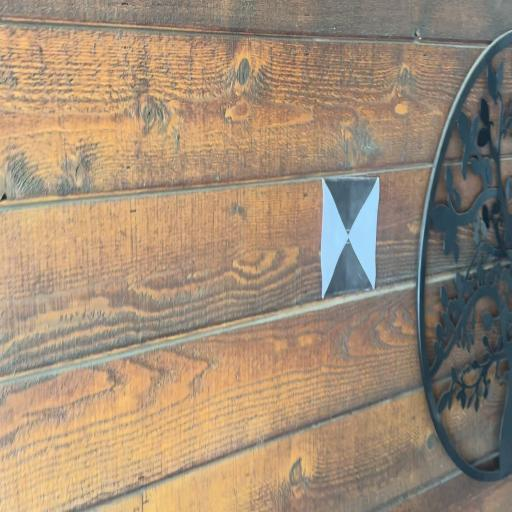target: (322, 178, 376, 296)
